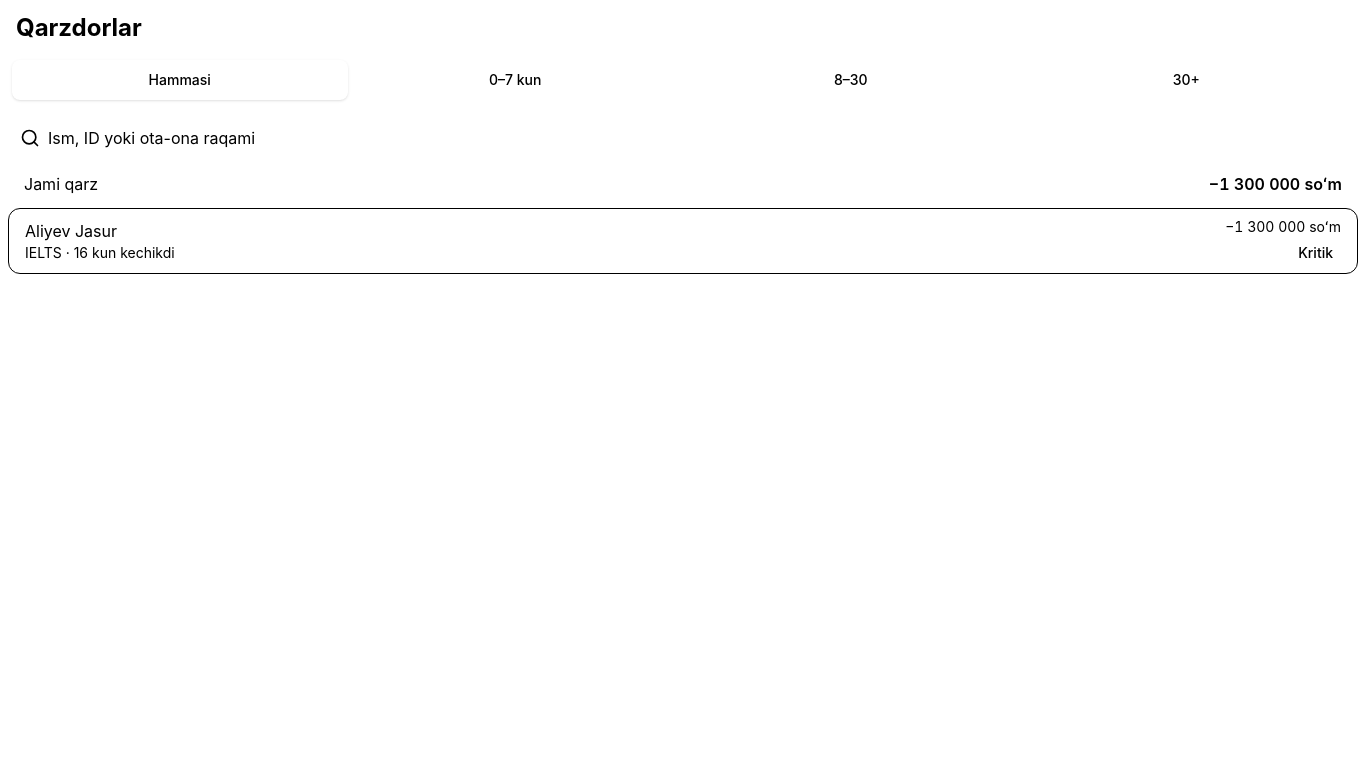
Test: MS-08 Qarzdorlar (T-132) › qator: kechikish, BR-22 kritik belgisi; bosilsa — qoʻngʻiroq va amallar
Expected: the text "IELTS · 16 kun kechikdi" is shown, top-left (25, 244), bottom-right (175, 261)
Expected: the text "Kritik" is shown, top-left (1298, 244), bottom-right (1333, 261)
Click the button "Aliyev Jasur IELTS · 16 kun kechikdi −1 300 000 soʻm Kritik".
click(71, 231)  # box top-left (9, 209), bottom-right (1357, 273)
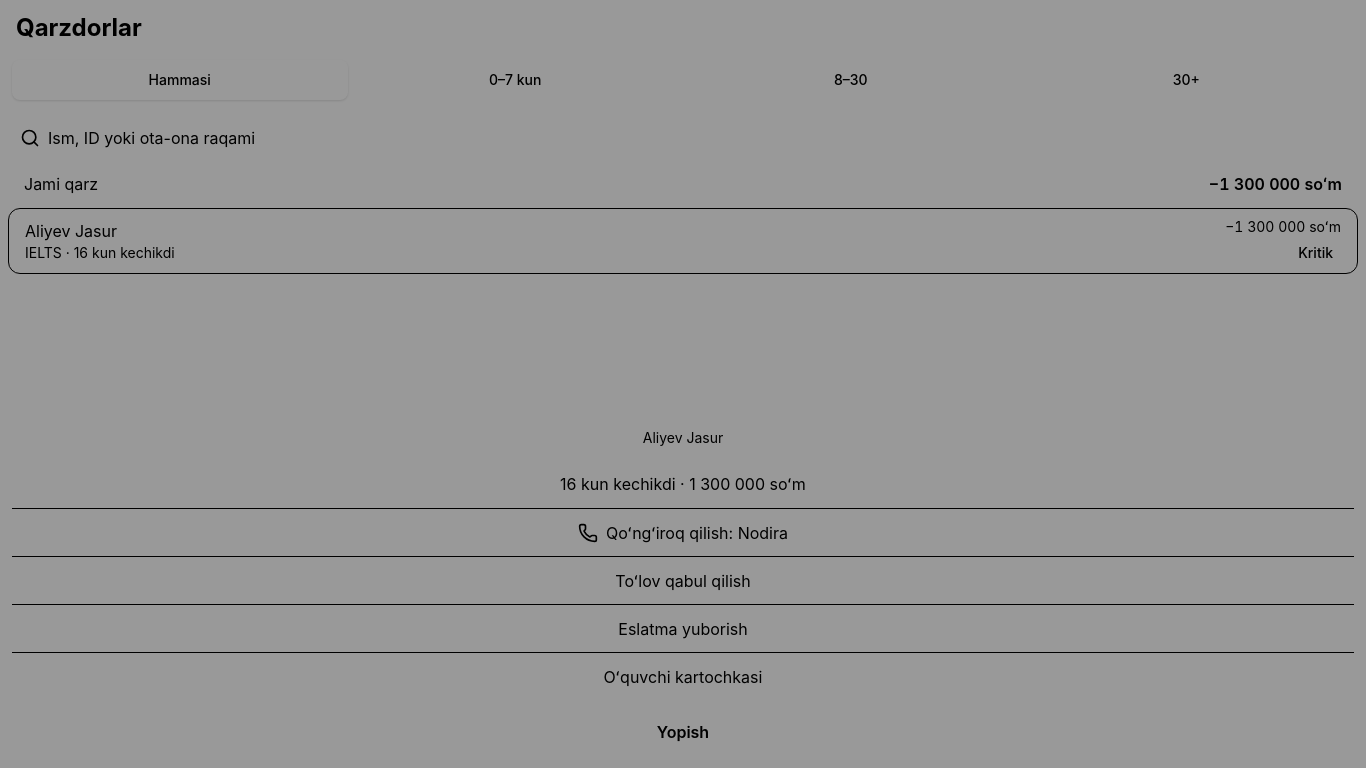
Click the button "Eslatma yuborish".
click(683, 628)  # box top-left (12, 604), bottom-right (1354, 652)
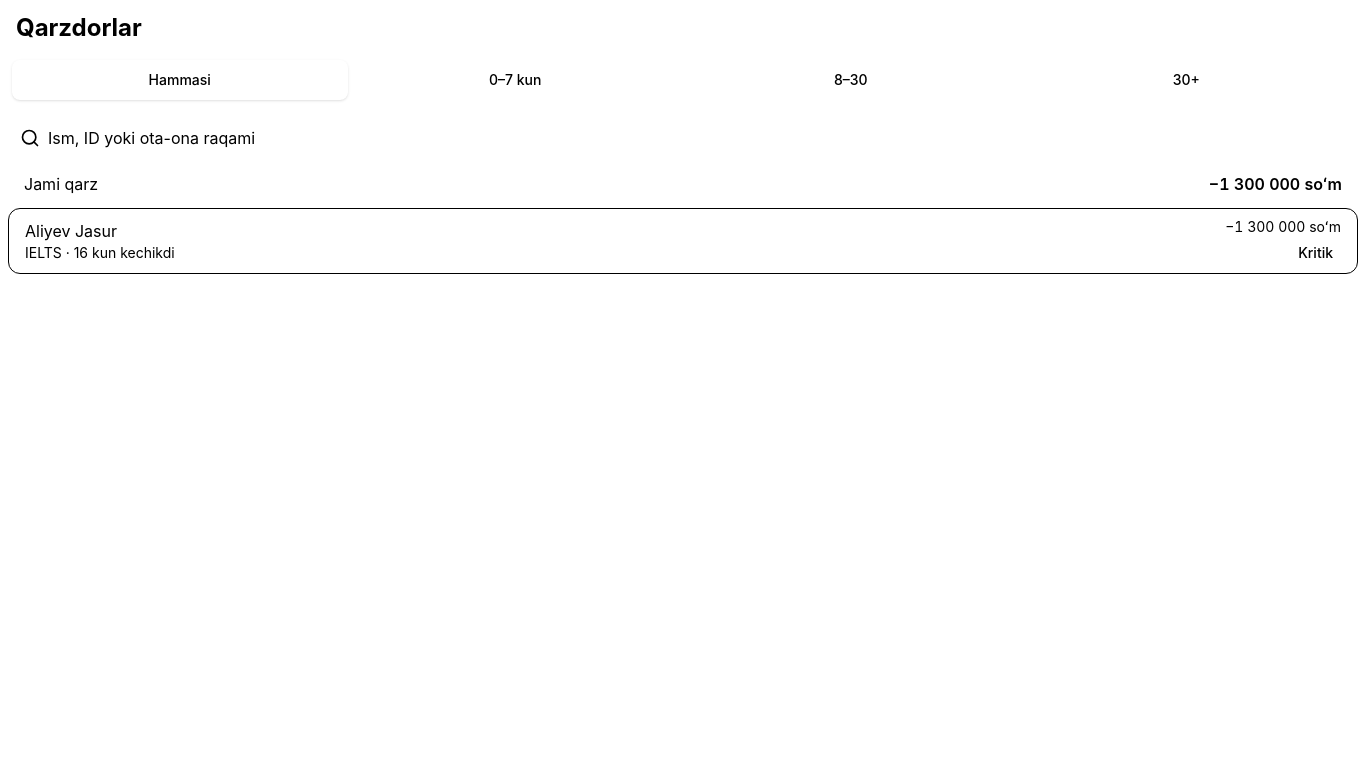
Now the dialog is gone
